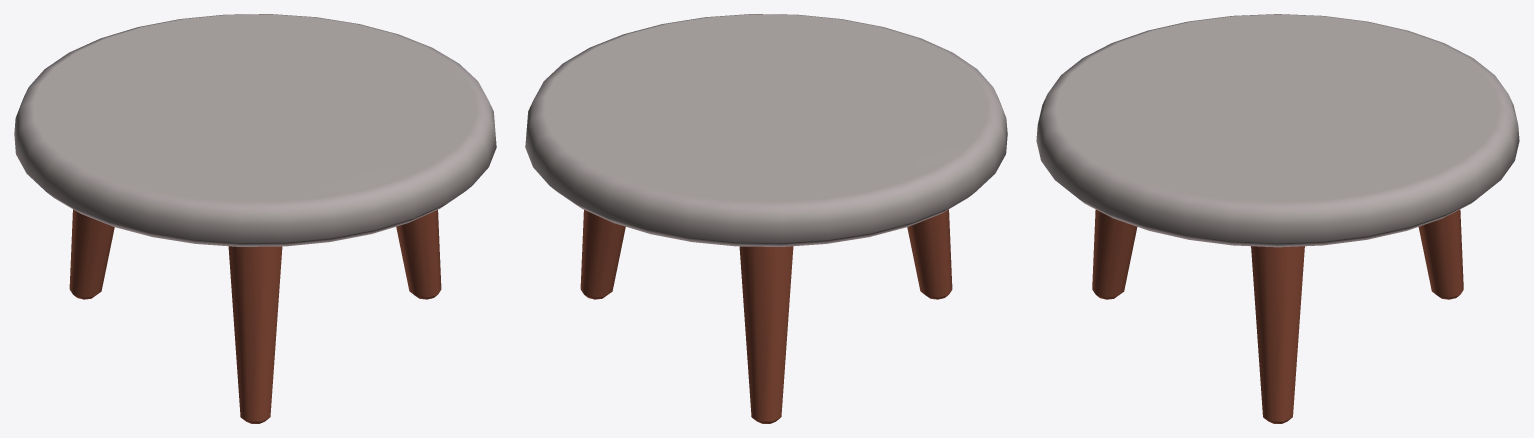
The model's file is Coffee_Table_03.glb.
3 views of the same model, side by side, from view 1: azimuth 30°, elevation 25°; view 2: azimuth 150°, elevation 25°; view 3: azimuth 270°, elevation 25° (orthographic).
Visible parts, largest first — view 1: Coffee_Table_03; view 2: Coffee_Table_03; view 3: Coffee_Table_03.
Boxes of the visible parts, box(x1,y1,x2,y2) form: Coffee_Table_03: box(14, 14, 496, 423); Coffee_Table_03: box(525, 14, 1007, 423); Coffee_Table_03: box(1036, 14, 1519, 423).
Bounding box in the file's own units: 0.8041 × 0.4233 × 0.8041.
Materials: 1 (1 with a texture image).
